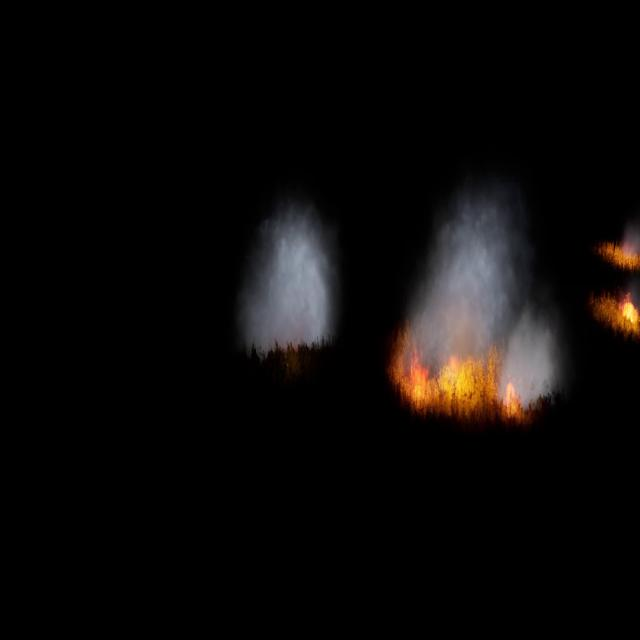fire: (393, 335, 523, 420), (621, 296, 637, 324)
smoke: (402, 183, 568, 412), (240, 198, 342, 358), (622, 228, 640, 256)
